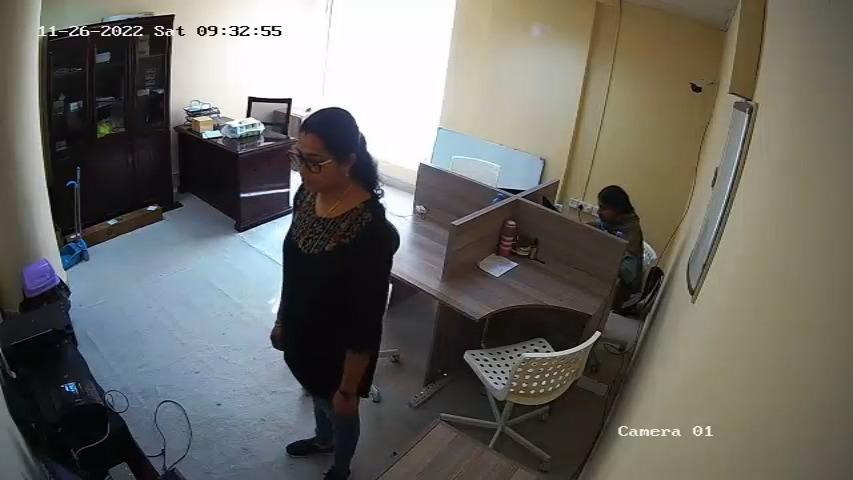no_apron: (279, 191, 354, 367)
